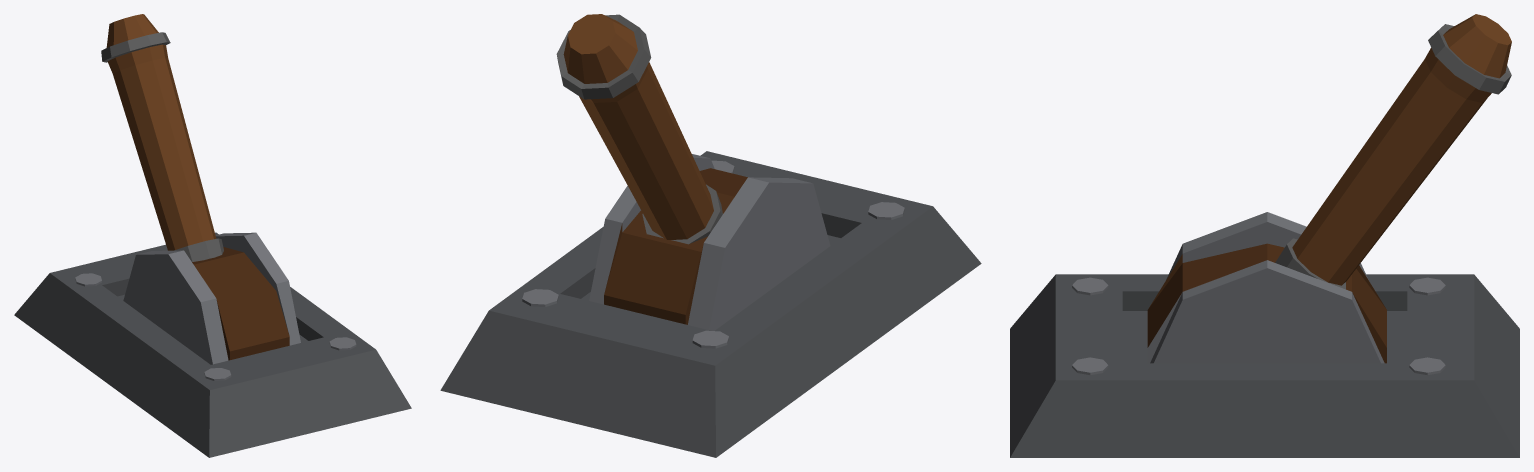
Rendered from Lever.fbx.
The picture shows the model from 3 angles, left to right: view 1: azimuth 30°, elevation 25°; view 2: azimuth 150°, elevation 25°; view 3: azimuth 270°, elevation 25°; orthographic projection. The views are drawn at different scales.
Parts seen in each view (by area): view 1: Cube.002; view 2: Cube.002; view 3: Cube.002.
Part boxes in pixels (bbox=[...]): Cube.002: bbox=[14, 14, 411, 457]; Cube.002: bbox=[440, 14, 981, 457]; Cube.002: bbox=[1010, 14, 1519, 457].
Size of the model in its own units: 147 by 200 by 246.
